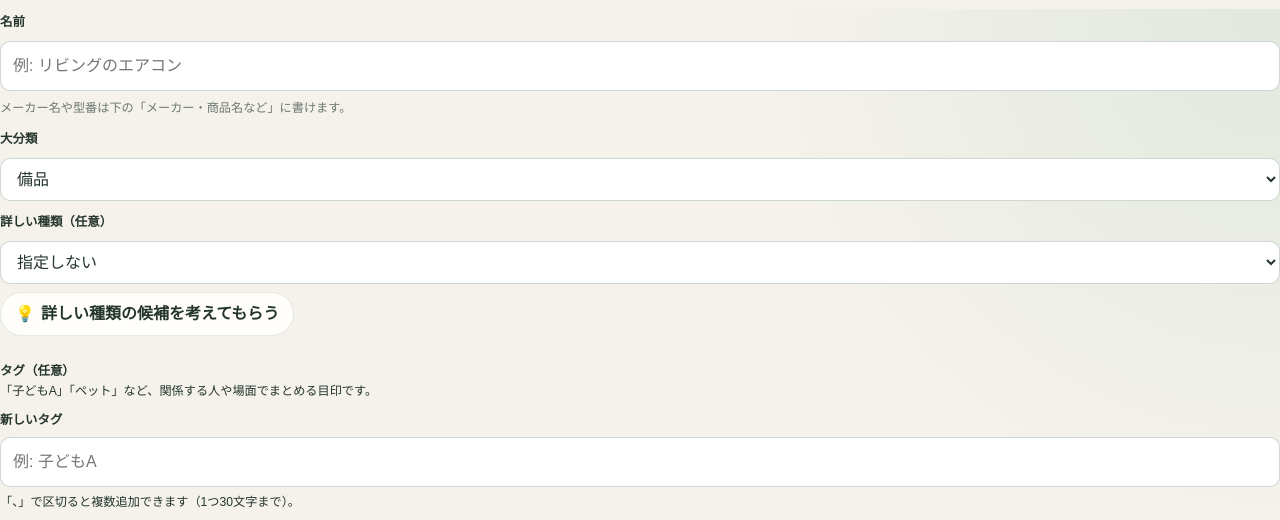
ManagedItemの任意の記録(Issue #42) › 大分類「service」を選ぶと見出し語が「利用・契約を始めた時期」に切り替わる
Select "サービス・契約" in the dropdown labelled "大分類" at (640, 180), box [0,158,1279,201]
(page scrolled)
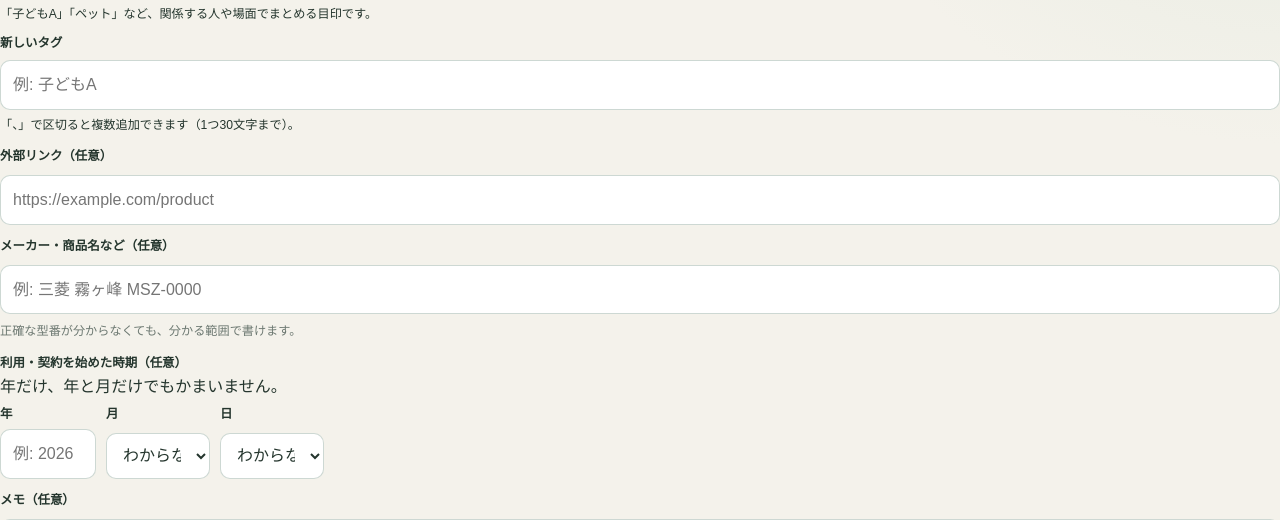
Expected: the element "利用・契約を始めた時期（任意）" is shown, [0,356,324,479]
